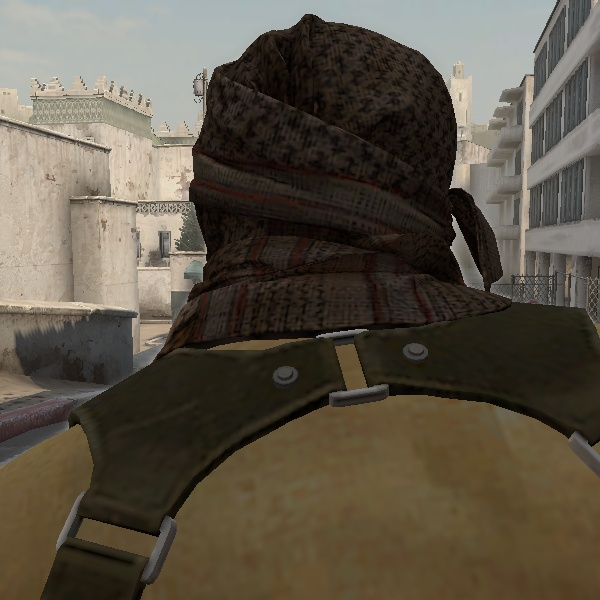t_body: (23, 14, 600, 600)
t_head: (142, 6, 525, 372)
